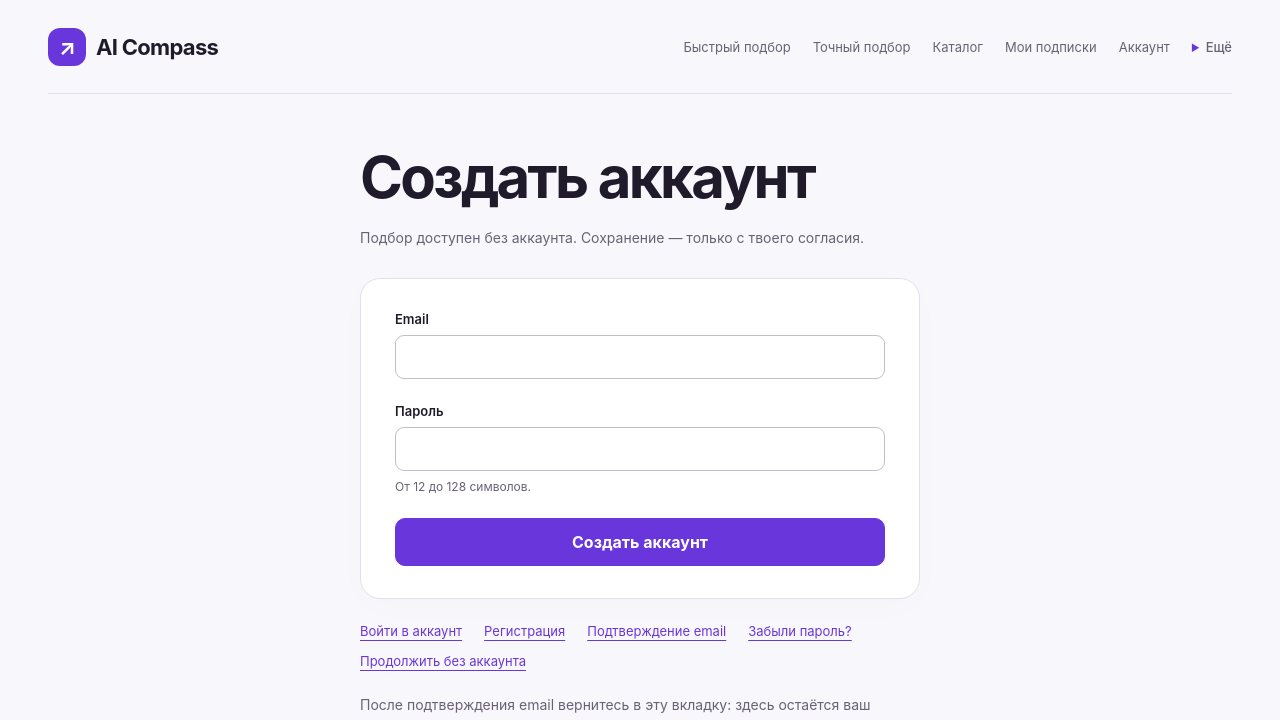
Test: registration is explicit, uses CSRF and never silently saves the guest draft
In the field labelled "Email": {"x": 640, "y": 357} [395,335,885,379], type "synthetic@example.invalid"
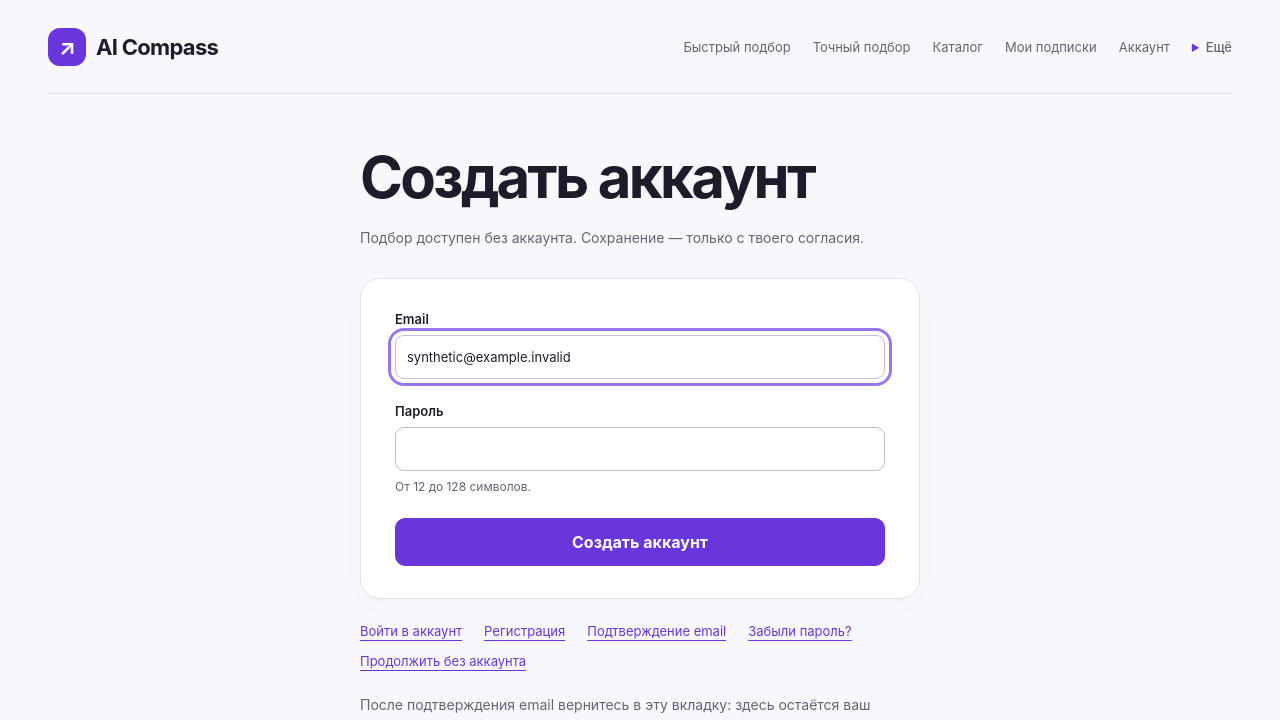
In the password field labelled "Пароль От 12 до 128 символов.": {"x": 640, "y": 449} [395,427,885,471], type "Synthetic-password-only"
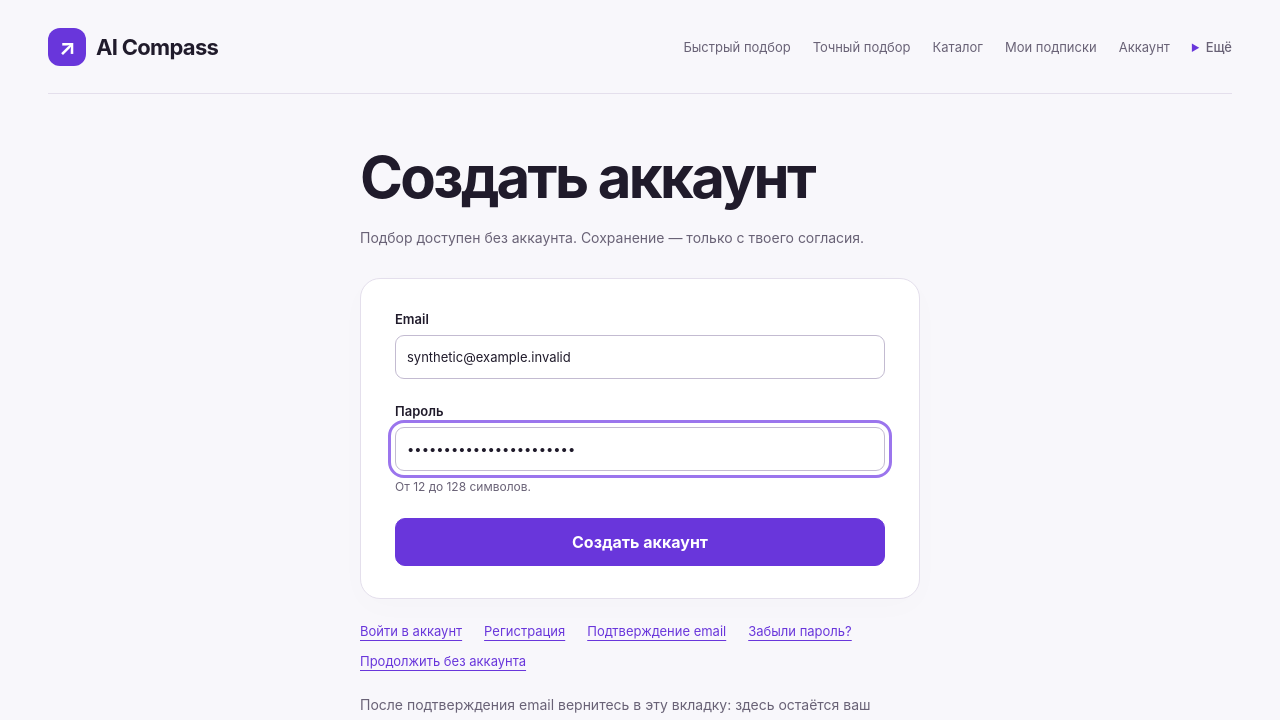
Click the button "Создать аккаунт": {"x": 640, "y": 542} [395,518,885,566]
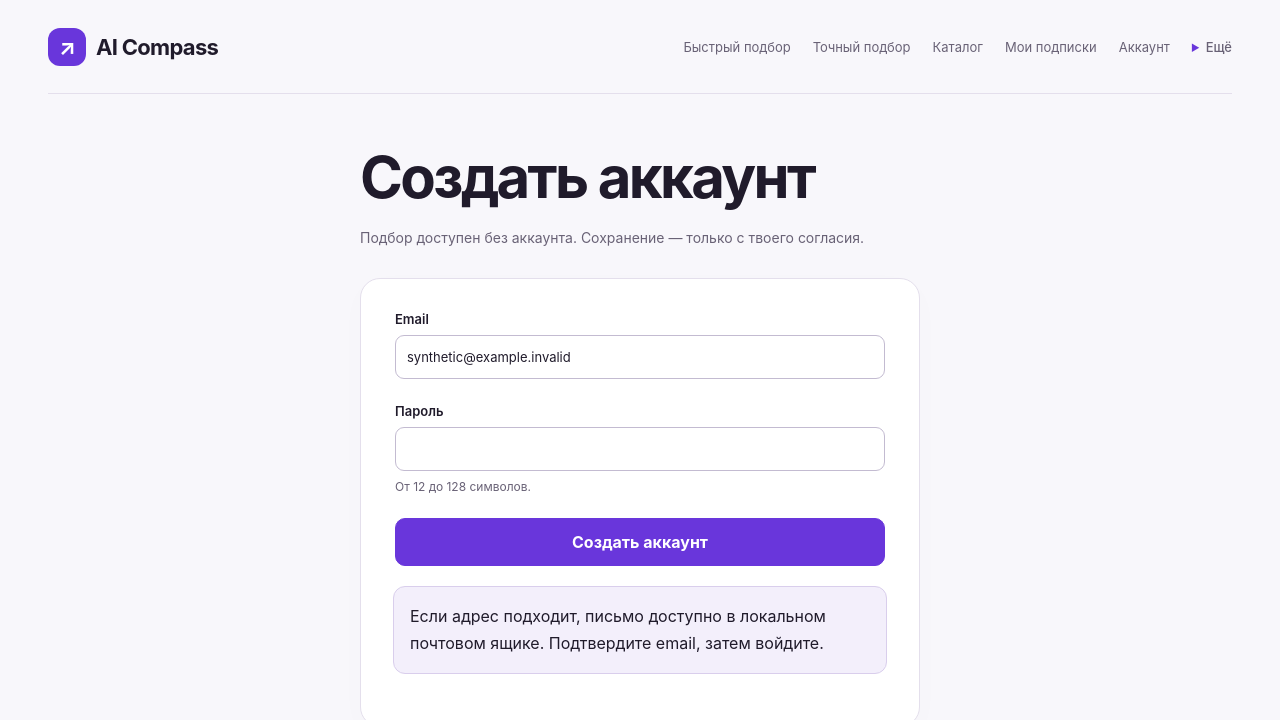
Check: the text "Если адрес подходит, письмо доступно" is shown, box [410,606,826,653]
Check: the password field labelled "Пароль От 12 до 128 символов." is empty, box [395,427,885,471]
